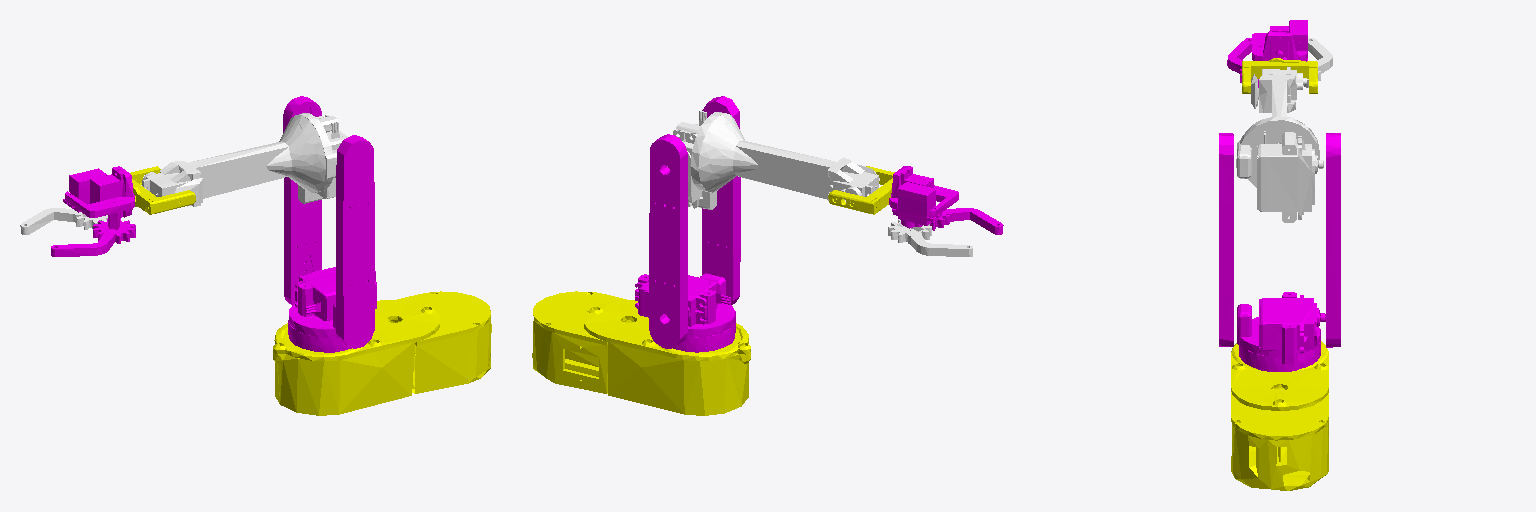
robot.urdf — my3dbotarm:
<?xml version="1.0" encoding="utf-8"?>
<!-- =================================================================================== -->
<!-- |    This document was autogenerated by xacro from my3dbotarm_description/urdf/my3dbotarm.xacro | -->
<!-- |    EDITING THIS FILE BY HAND IS NOT RECOMMENDED                                 | -->
<!-- =================================================================================== -->
<robot name="my3dbotarm">
  <material name="orange">
    <color rgba="84 211 0 1"/>
  </material>
  <material name="red">
    <color rgba="207 0 15 1"/>
  </material>
  <material name="malachita">
    <color rgba="64 0 230 1"/>
  </material>
  <material name="electric_indigo">
    <color rgba="140 252 20 1"/>
  </material>
  <link name="base">
    <visual>
      <origin rpy="0 0 0" xyz="0 0 0.0225"/>
      <geometry>
        <mesh filename="package://my3dbotarm_description/meshes/Base_reduced.stl" scale="0.001 0.001 0.001"/>
      </geometry>
      <material name="orange"/>
    </visual>
    <collision>
      <origin rpy="0 0 0" xyz="0 0 0.0225"/>
      <geometry>
        <mesh filename="package://my3dbotarm_description/meshes/Base_reduced.stl" scale="0.001 0.001 0.001"/>
      </geometry>
    </collision>
  </link>
  <joint name="base__link_01" type="revolute">
    <axis xyz="0 0 1"/>
    <limit effort="1000.0" lower="-1.5" upper="1.5" velocity="1.0"/>
    <origin rpy="0 0 0" xyz="-0.0386 0 0.0425"/>
    <parent link="base"/>
    <child link="link_01"/>
  </joint>
  <link name="link_01">
    <visual>
      <origin rpy="0 0 0" xyz="0 0 0.01875"/>
      <geometry>
        <mesh filename="package://my3dbotarm_description/meshes/Link1_reduced.stl" scale="0.001 0.001 0.001"/>
      </geometry>
      <material name="red"/>
    </visual>
    <collision>
      <origin rpy="0 0 0" xyz="0 0 0.01875"/>
      <geometry>
        <mesh filename="package://my3dbotarm_description/meshes/Link1_reduced.stl" scale="0.001 0.001 0.001"/>
      </geometry>
    </collision>
  </link>
  <joint name="link_01__link_02" type="revolute">
    <axis xyz="0 1 0"/>
    <limit effort="1000.0" lower="-1.5" upper="1.5" velocity="1.0"/>
    <origin rpy="0 0 0" xyz="0 0 0.02500431"/>
    <parent link="link_01"/>
    <child link="link_02"/>
  </joint>
  <link name="link_02">
    <visual>
      <origin rpy="0 0 0" xyz="0 0 0.058323"/>
      <geometry>
        <mesh filename="package://my3dbotarm_description/meshes/Link2_reduced.stl" scale="0.001 0.001 0.001"/>
      </geometry>
      <material name="malachita"/>
    </visual>
    <collision>
      <origin rpy="0 0 0" xyz="0 0 0.058323"/>
      <geometry>
        <mesh filename="package://my3dbotarm_description/meshes/Link2_reduced.stl" scale="0.001 0.001 0.001"/>
      </geometry>
    </collision>
  </link>
  <joint name="link_02__link_03" type="revolute">
    <axis xyz="0 1 0"/>
    <limit effort="1000.0" lower="-1.5" upper="1.5" velocity="1.0"/>
    <origin rpy="0 0 0" xyz="0 0 0.1073"/>
    <parent link="link_02"/>
    <child link="link_03"/>
  </joint>
  <link name="link_03">
    <visual>
      <origin rpy="0 0 0" xyz="-0.065 0 0"/>
      <geometry>
        <mesh filename="package://my3dbotarm_description/meshes/Link3_reduced.stl" scale="0.001 0.001 0.001"/>
      </geometry>
      <material name="electric_indigo"/>
    </visual>
    <collision>
      <origin rpy="0 0 0" xyz="-0.065 0 0"/>
      <geometry>
        <mesh filename="package://my3dbotarm_description/meshes/Link3_reduced.stl" scale="0.001 0.001 0.001"/>
      </geometry>
    </collision>
  </link>
  <joint name="link_03__link_04" type="revolute">
    <axis xyz="0 1 0"/>
    <limit effort="1000.0" lower="-1.5" upper="1.5" velocity="1.0"/>
    <origin rpy="0 0 0" xyz="-0.1287 0 0.0057"/>
    <parent link="link_03"/>
    <child link="link_04"/>
  </joint>
  <link name="link_04">
    <visual>
      <origin rpy="0 0 0" xyz="-0.005 0 0"/>
      <geometry>
        <mesh filename="package://my3dbotarm_description/meshes/Link4_reduced.stl" scale="0.001 0.001 0.001"/>
      </geometry>
      <material name="orange"/>
    </visual>
    <collision>
      <origin rpy="0 0 0" xyz="-0.005 0 0"/>
      <geometry>
        <mesh filename="package://my3dbotarm_description/meshes/Link4_reduced.stl" scale="0.001 0.001 0.001"/>
      </geometry>
    </collision>
  </link>
  <joint name="link_04__link_05" type="revolute">
    <axis xyz="1 0 0"/>
    <limit effort="1000.0" lower="-1.5" upper="1.5" velocity="1.0"/>
    <origin rpy="0 0 0" xyz="-0.04327 0 0"/>
    <parent link="link_04"/>
    <child link="link_05"/>
  </joint>
  <link name="link_05">
    <visual>
      <origin rpy="0 0 0" xyz="0 0.00005 0.00416"/>
      <geometry>
        <mesh filename="package://my3dbotarm_description/meshes/Link5_reduced.stl" scale="0.001 0.001 0.001"/>
      </geometry>
      <material name="red"/>
    </visual>
    <collision>
      <origin rpy="0 0 0" xyz="0 0.00005 0.00416"/>
      <geometry>
        <mesh filename="package://my3dbotarm_description/meshes/Link5_reduced.stl" scale="0.001 0.001 0.001"/>
      </geometry>
    </collision>
  </link>
  <joint name="link_05__gripper_01" type="revolute">
    <axis xyz="0 0 1"/>
    <limit effort="1000.0" lower="-1.5" upper="1.5" velocity="1.0"/>
    <origin rpy="0 0 0" xyz="0 -0.01225 -0.01605"/>
    <parent link="link_05"/>
    <child link="gripper_01"/>
  </joint>
  <link name="gripper_01">
    <visual>
      <origin rpy="0 0 0" xyz="-0.019 -0.004 0"/>
      <geometry>
        <mesh filename="package://my3dbotarm_description/meshes/Gripper1_reduced.stl" scale="0.001 0.001 0.001"/>
      </geometry>
      <material name="malachita"/>
    </visual>
    <collision>
      <origin rpy="0 0 0" xyz="-0.019 -0.004 0"/>
      <geometry>
        <mesh filename="package://my3dbotarm_description/meshes/Gripper1_reduced.stl" scale="0.001 0.001 0.001"/>
      </geometry>
    </collision>
  </link>
  <joint name="link_05__gripper_02" type="revolute">
    <axis xyz="0 0 1"/>
    <limit effort="1000.0" lower="-1.5" upper="1.5" velocity="1.0"/>
    <origin rpy="0 0 0" xyz="0 0.01225 -0.01605"/>
    <parent link="link_05"/>
    <child link="gripper_02"/>
  </joint>
  <link name="gripper_02">
    <visual>
      <origin rpy="0 0 0" xyz="-0.019 0.0039 0"/>
      <geometry>
        <mesh filename="package://my3dbotarm_description/meshes/Gripper2_reduced.stl" scale="0.001 0.001 0.001"/>
      </geometry>
      <material name="electric_indigo"/>
    </visual>
    <collision>
      <origin rpy="0 0 0" xyz="-0.019 0.0039 0"/>
      <geometry>
        <mesh filename="package://my3dbotarm_description/meshes/Gripper2_reduced.stl" scale="0.001 0.001 0.001"/>
      </geometry>
    </collision>
  </link>
</robot>

--- Facts derived from the render (not from the file) ---
Views: 3 orthographic renders of the robot side by side, from view 1: azimuth 30°, elevation 25°; view 2: azimuth 150°, elevation 25°; view 3: azimuth 270°, elevation 25°.
Robot: my3dbotarm — 8 links, 7 joints (7 revolute); root link base; default pose: all joints at 0.
Links seen in each view (by area): view 1: base, link_02, link_03, link_01, link_05, gripper_01, link_04, gripper_02; view 2: base, link_02, link_03, link_01, link_05, gripper_02, link_04, gripper_01; view 3: base, link_03, link_02, link_01, link_05, link_04, gripper_02, gripper_01.
Boxes of the visible links, x1,y1,x2,y2 form: base: [273, 291, 491, 415]; link_02: [283, 96, 374, 348]; link_03: [142, 113, 347, 206]; link_01: [288, 267, 376, 352]; link_05: [63, 166, 134, 229]; gripper_01: [51, 218, 135, 256]; link_04: [130, 166, 195, 214]; gripper_02: [20, 208, 107, 234]; base: [532, 291, 750, 415]; link_02: [649, 96, 740, 348]; link_03: [667, 111, 879, 209]; link_01: [635, 273, 735, 352]; link_05: [889, 166, 958, 228]; gripper_02: [888, 219, 972, 256]; link_04: [828, 166, 894, 214]; gripper_01: [930, 208, 1003, 234]; base: [1231, 341, 1328, 490]; link_03: [1236, 67, 1323, 222]; link_02: [1219, 133, 1340, 347]; link_01: [1237, 292, 1325, 371]; link_05: [1252, 20, 1307, 61]; link_04: [1242, 58, 1317, 93]; gripper_02: [1303, 38, 1332, 87]; gripper_01: [1227, 38, 1258, 87].
Size in the robot's own frame: 0.3443 by 0.08 by 0.2074 metres.
Meshes: 8 distinct files referenced, 8 mesh visuals loaded (8 binary STL).
